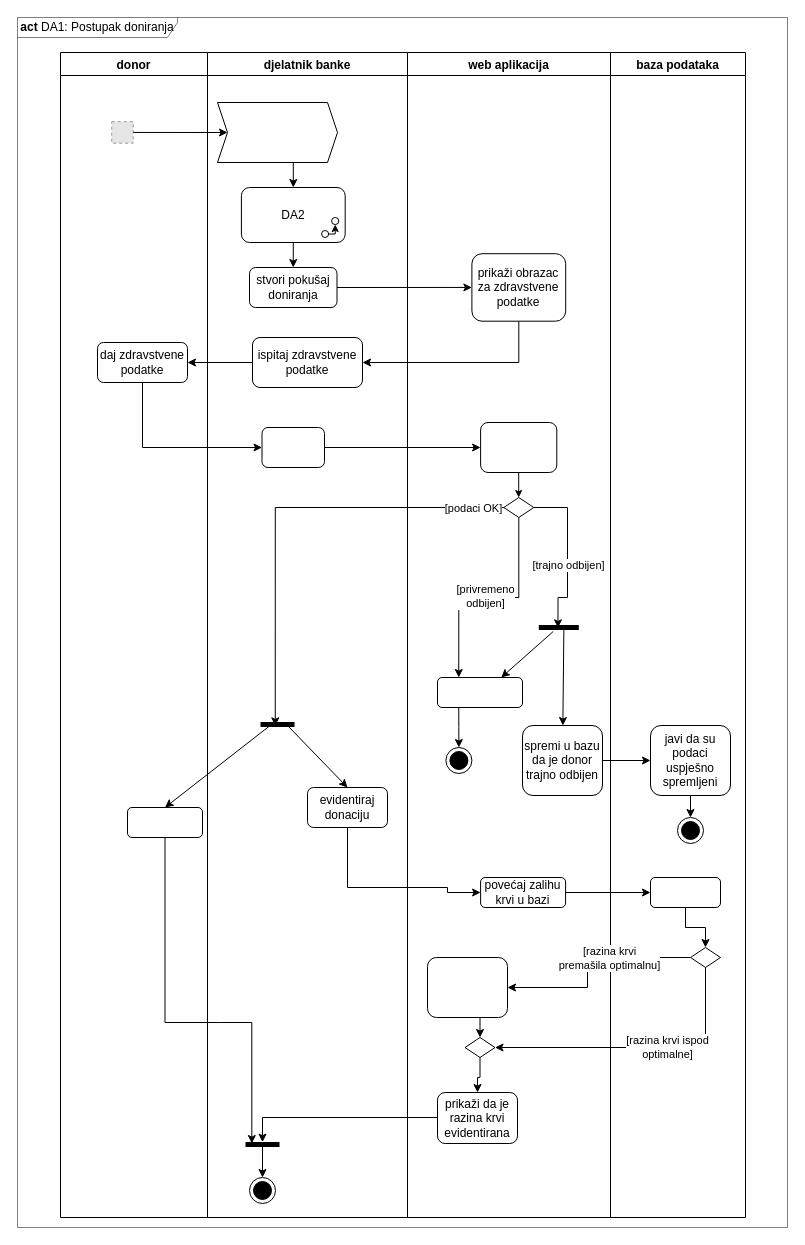
Image size: 805x1245. Some labels were removed from this diagram. Grey dashed boxes stand in for pictures. Here are the shapes that lost their labels. From the top down, the centre of each, then its label:
the point at 277,132: <<signal receipt>> donor došao na doniranje
the point at 292,447: popuni obrazac
the point at 518,447: javi jesu li podaci u redu
the point at 479,692: odbij donora
the point at 164,822: doniraj krv
the point at 685,892: vrati novi broj jedinica
the point at 467,987: obavijesti da je razina krvi iznad optimalne
